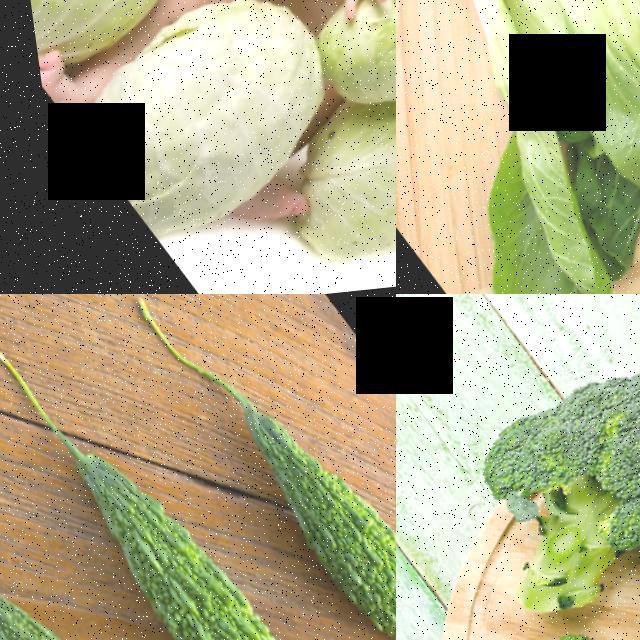bitter gourd: (17, 405, 372, 640), (198, 381, 396, 640), (0, 529, 219, 640)
bok choy: (396, 0, 640, 294)
broccoli: (396, 294, 640, 640)
cabbage: (50, 4, 325, 251), (270, 77, 396, 294), (5, 0, 190, 68), (307, 0, 396, 124)
